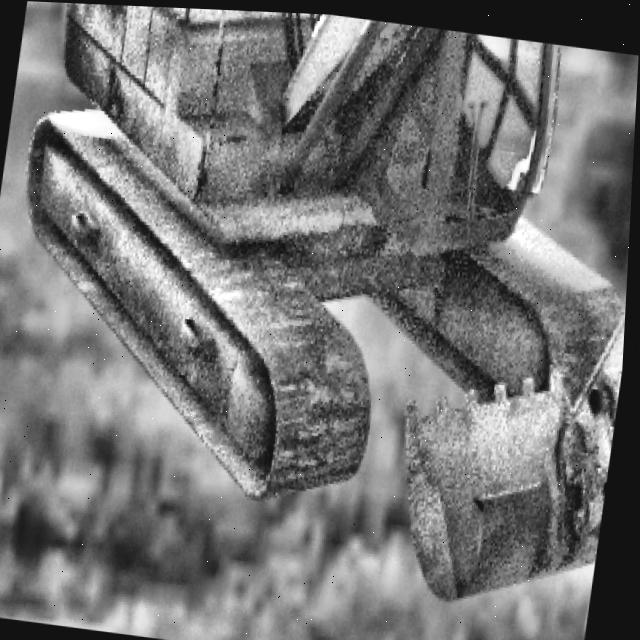excavator: (0, 0, 640, 611)
